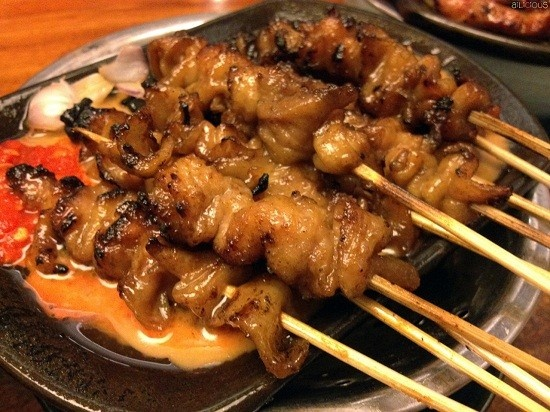sate_madura: (14, 16, 550, 409)
